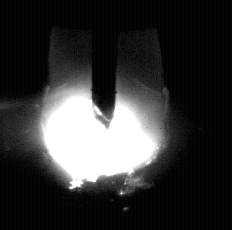arame: (92, 0, 117, 129)
poca: (40, 0, 166, 230)
